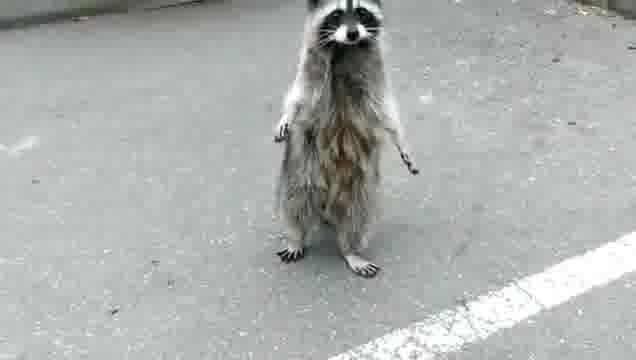raccoon: (256, 0, 424, 280)
